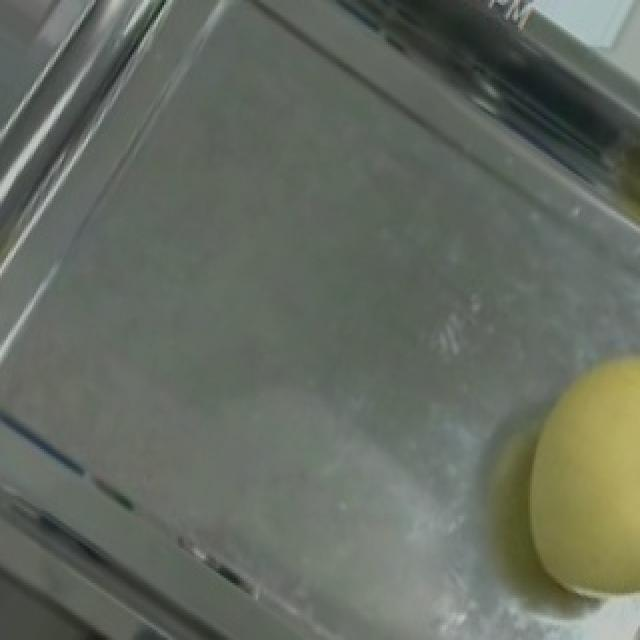Fruit: (436, 320, 640, 633)
